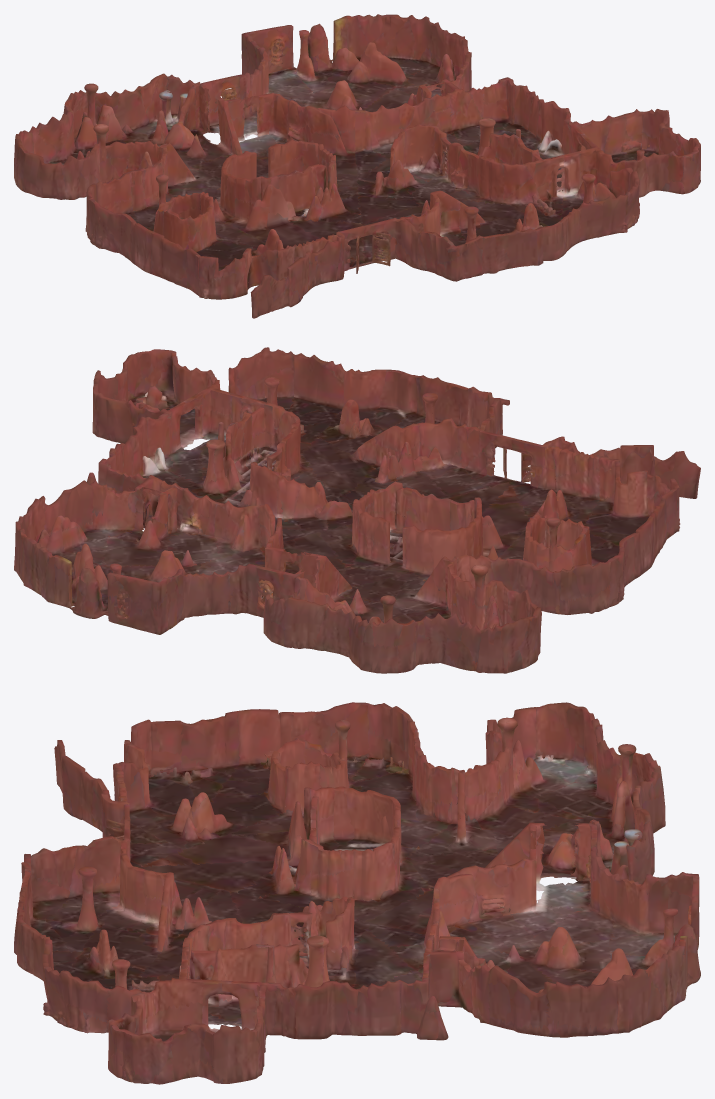
File: dungeon1.glb
3 renders of one model, top to bottom at view 1: azimuth 30°, elevation 25°; view 2: azimuth 150°, elevation 25°; view 3: azimuth 270°, elevation 25°, orthographic. The views are drawn at different scales.
Visible parts, largest first — view 1: Mesh_0.022; view 2: Mesh_0.022; view 3: Mesh_0.022.
Boxes of the visible parts, x1,y1,x2,y2 form: Mesh_0.022: (14, 14, 700, 318); Mesh_0.022: (14, 347, 700, 673); Mesh_0.022: (14, 702, 700, 1084).
Size of the model in its own units: 1.9 by 0.2933 by 1.67.
Materials: 1 (1 with a texture image).
